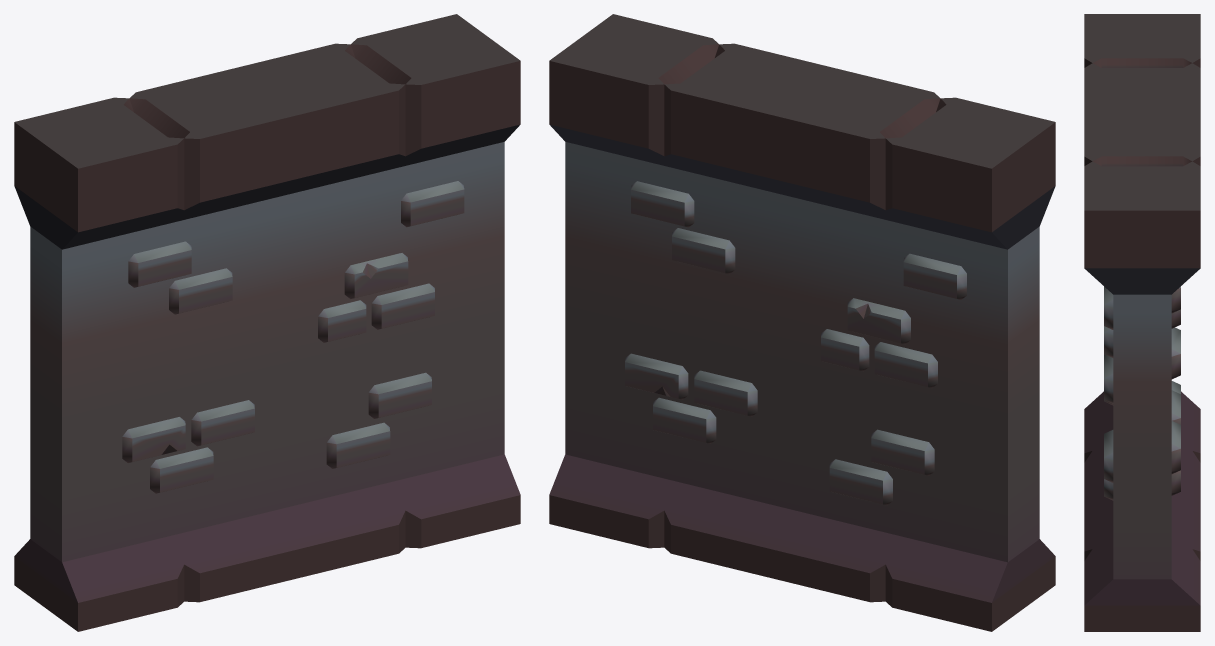
The model's file is wall.glb.
3 renders of one model, left to right at view 1: azimuth 30°, elevation 25°; view 2: azimuth 150°, elevation 25°; view 3: azimuth 270°, elevation 25°, orthographic. The views are drawn at different scales.
Visible parts, largest first — view 1: wall; view 2: wall; view 3: wall.
Boxes of the visible parts, x1=… form: wall: x1=14, y1=14, x2=520, y2=631; wall: x1=549, y1=14, x2=1055, y2=631; wall: x1=1084, y1=14, x2=1200, y2=631.
Bounding box in the file's own units: 4 × 4 × 1.
Materials: 1 (1 with a texture image).
